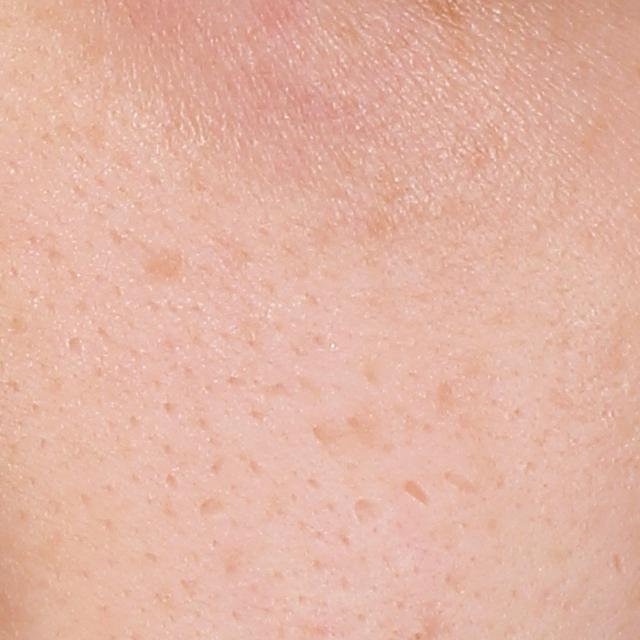atrophic_scar: (437, 468, 481, 495), (402, 480, 436, 510), (354, 499, 383, 531), (609, 550, 627, 573)
melasma: (361, 163, 413, 206), (133, 247, 185, 279)
